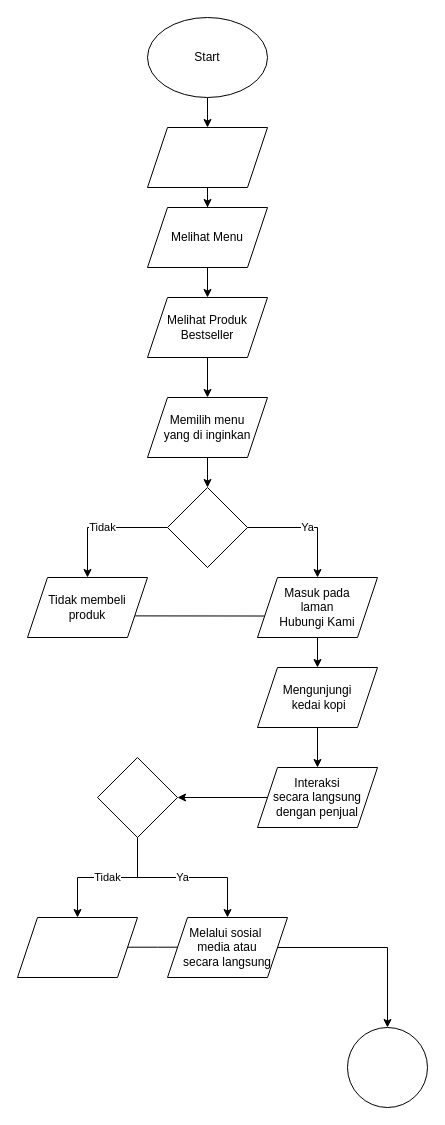
Image size: 445x1125. Some labels were removed from this diagram. Here are the shapes that lost their labels. From the top down, the centre of each, then its label:
the point at 207,157: Dashboard
the point at 207,527: Beli
the point at 137,797: ulasan dan Penilaian
the point at 77,947: Tidak mendapat review
the point at 387,1067: End
